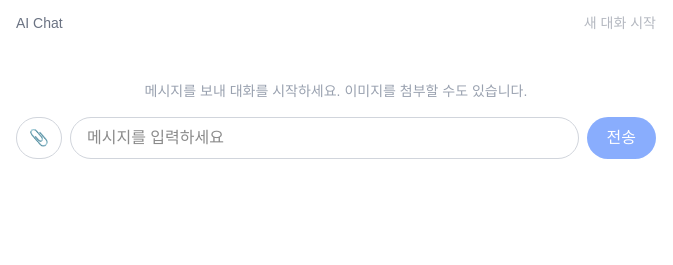
Test: ChatApp › removes the empty assistant placeholder and offers a retry on failure
Type "hi" into the field with placeholder "메시지를 입력하세요" at (324, 138), box 70,117 -> 579,159
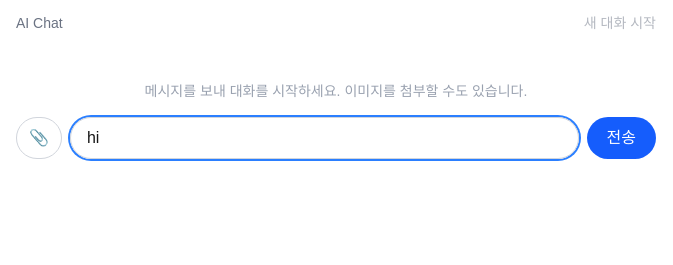
Click the button "전송" at (621, 138), box 586,117 -> 656,159
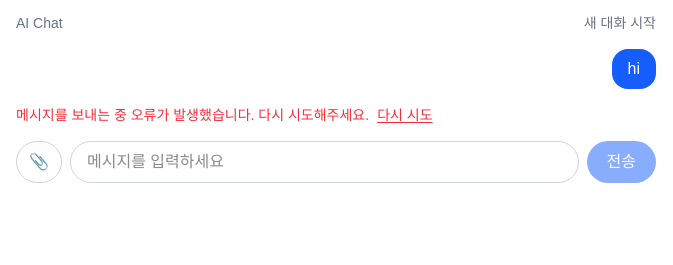
Result: the text "메시지를 보내는 중 오류가 발생했습니다. 다시 시도해주세요. 다시 시도" is shown at 16,105 -> 432,125
Result: the number of elements with test id "chat-message" is 1 at 612,49 -> 656,89
Click the button "다시 시도" at (405, 115), box 377,105 -> 432,125
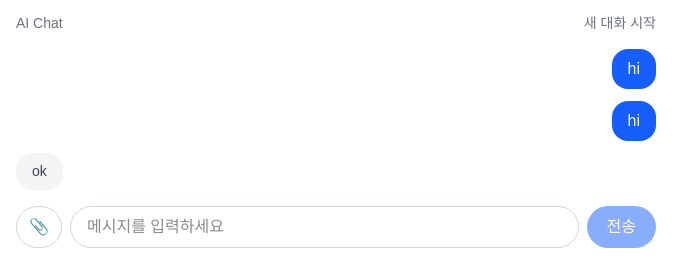
Result: the text "ok" is shown at 32,161 -> 47,182
